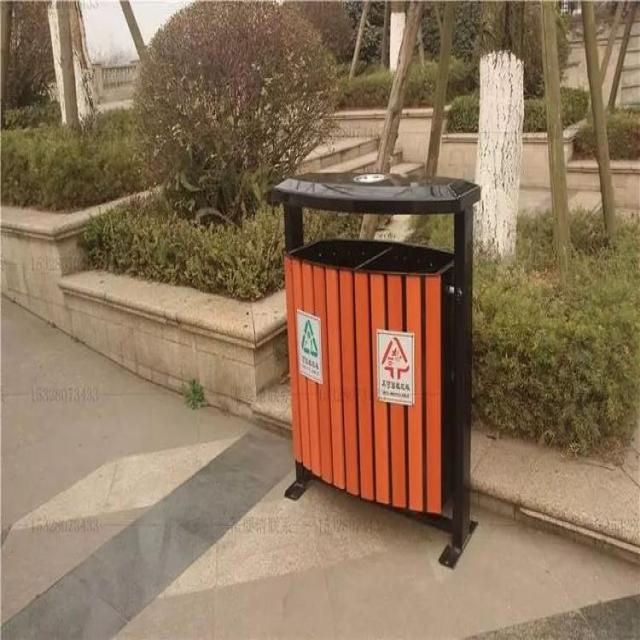garbage_bin: (272, 170, 480, 567)
